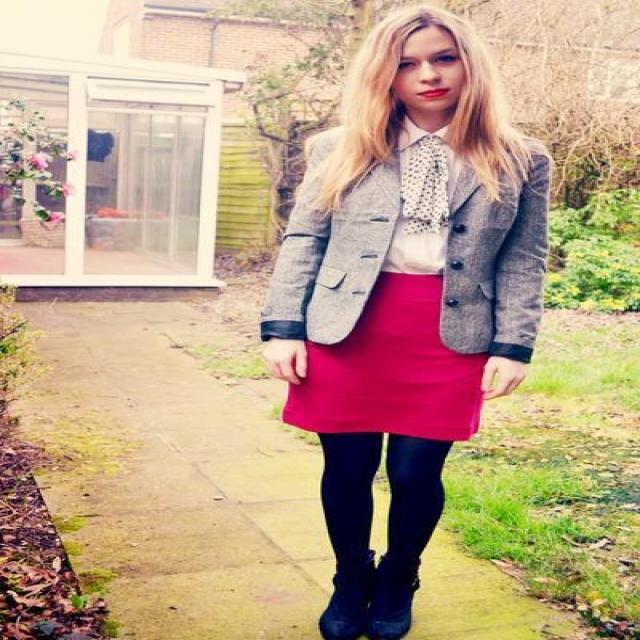jacket: (244, 126, 566, 363)
pants: (318, 432, 472, 614)
shirt: (370, 120, 450, 274)
shoe: (318, 605, 409, 639)
skirt: (283, 269, 488, 440)
